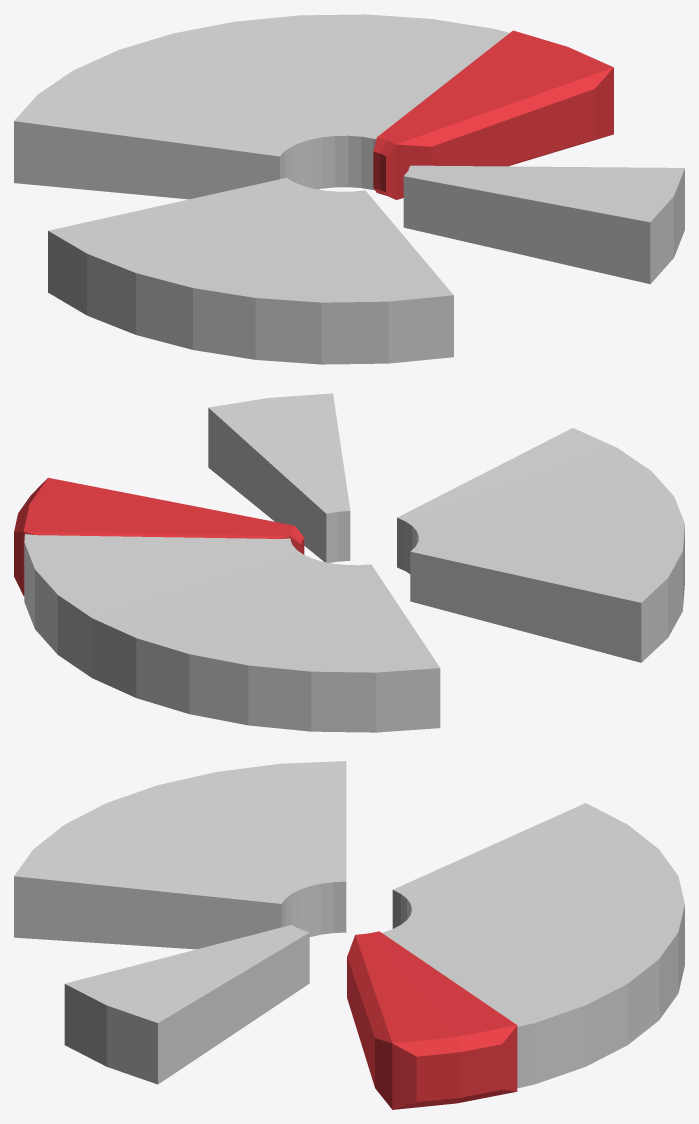
Rendered from platform_triplegap3.glb.
3 renders of one model, top to bottom at view 1: azimuth 30°, elevation 25°; view 2: azimuth 150°, elevation 25°; view 3: azimuth 270°, elevation 25°, orthographic. The views are drawn at different scales.
Visible parts, largest first — view 1: Platform_TripleGap_Far1, Danger.004; view 2: Platform_TripleGap_Far1, Danger.004; view 3: Platform_TripleGap_Far1, Danger.004.
Boxes of the visible parts, x1,y1,x2,y2 form: Platform_TripleGap_Far1: (14, 14, 684, 364); Danger.004: (373, 30, 613, 199); Platform_TripleGap_Far1: (24, 393, 684, 732); Danger.004: (14, 477, 304, 595); Platform_TripleGap_Far1: (14, 761, 684, 1088); Danger.004: (347, 931, 517, 1109).
Size of the model in its own units: 2.01 by 0.2167 by 1.98.
